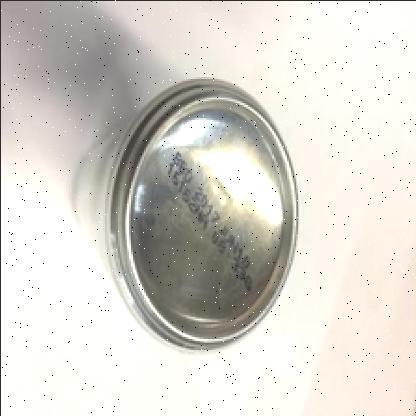Can: (38, 46, 363, 381)
